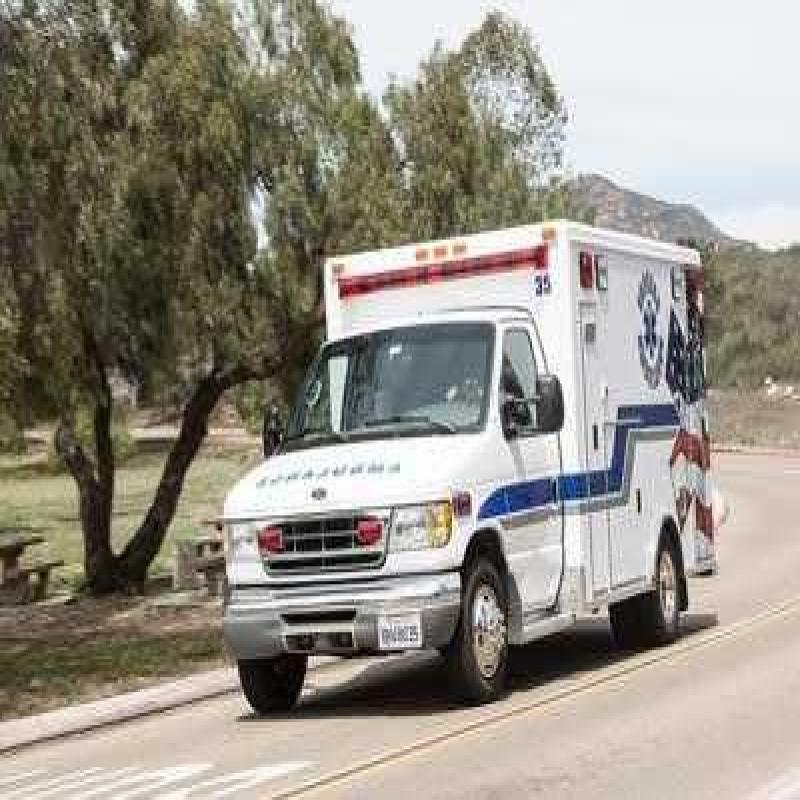AmbulanceSiren: (323, 230, 549, 307)
